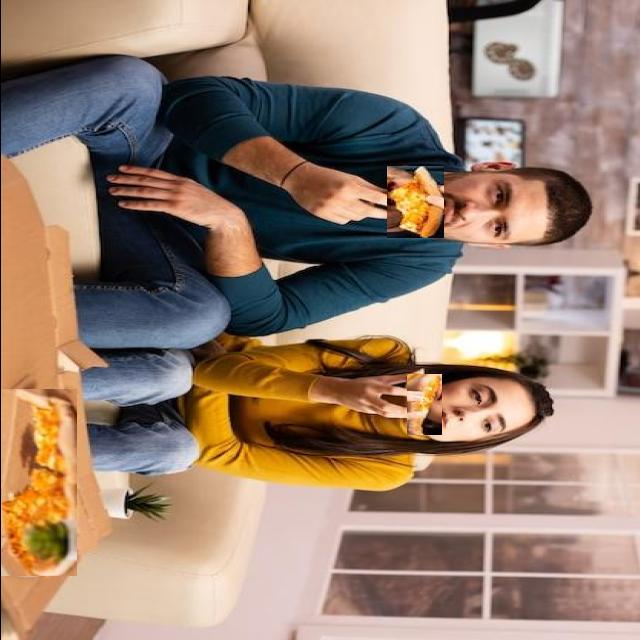pizza: (0, 389, 76, 576), (386, 166, 443, 238), (406, 374, 441, 435)
